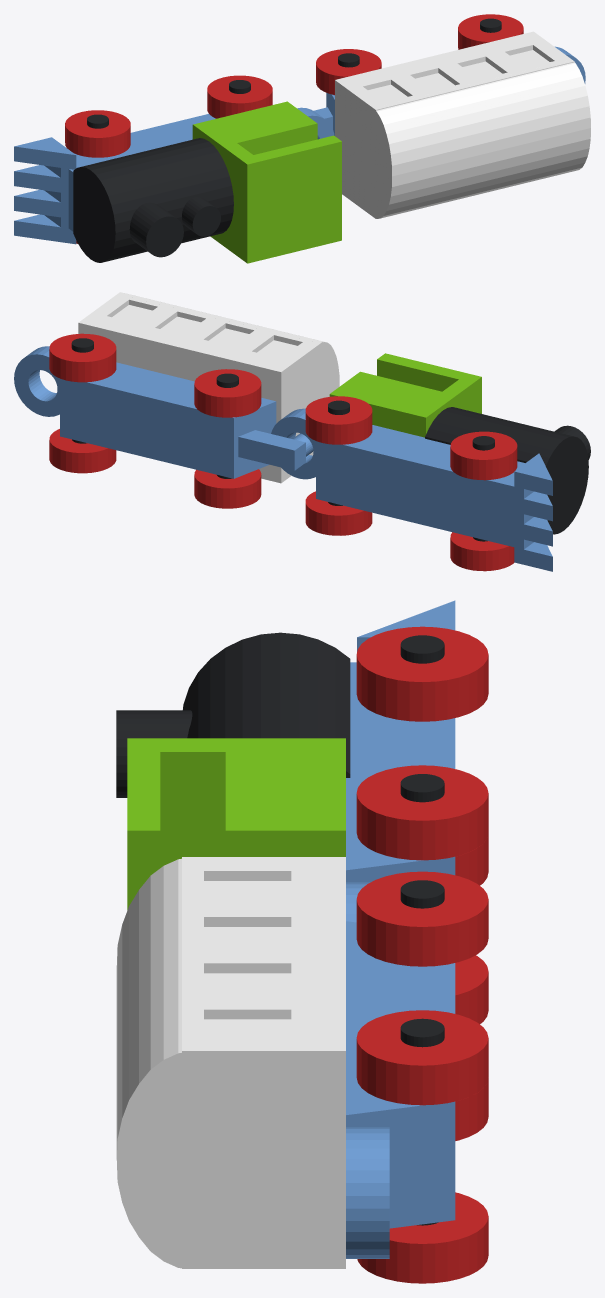
Rendered from tinker.obj.
3 renders of one model, top to bottom at view 1: azimuth 30°, elevation 25°; view 2: azimuth 150°, elevation 25°; view 3: azimuth 270°, elevation 25°, orthographic. The views are drawn at different scales.
Parts seen in each view (by area): view 1: group_0_16777215, group_0_8244508, group_0_2369065, group_0_7184088, group_0_13575718; view 2: group_0_7184088, group_0_13575718, group_0_16777215, group_0_2369065, group_0_8244508; view 3: group_0_16777215, group_0_13575718, group_0_7184088, group_0_8244508, group_0_2369065.
Part boxes in pixels (<box>): group_0_16777215: <box>335,31,590,218</box>; group_0_8244508: <box>192,101,341,263</box>; group_0_2369065: <box>73,18,501,262</box>; group_0_7184088: <box>14,46,585,244</box>; group_0_13575718: <box>65,14,523,243</box>; group_0_7184088: <box>14,346,552,571</box>; group_0_13575718: <box>49,333,517,571</box>; group_0_16777215: <box>78,292,339,483</box>; group_0_2369065: <box>71,338,590,541</box>; group_0_8244508: <box>329,353,481,437</box>; group_0_16777215: <box>116,857,345,1268</box>; group_0_13575718: <box>356,626,488,1283</box>; group_0_7184088: <box>346,600,455,1258</box>; group_0_8244508: <box>127,738,345,909</box>; group_0_2369065: <box>116,632,444,1225</box>.
Size of the model in its own units: 115 by 24 by 34.03.
